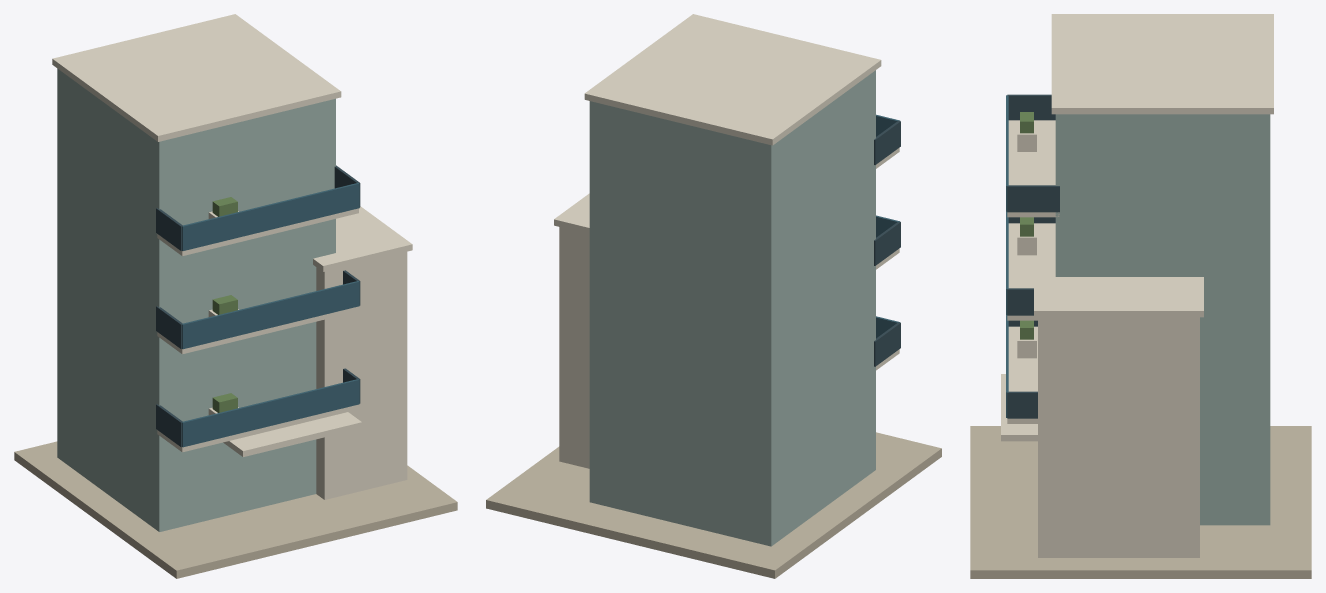
Rendered from mint-apartment_lod.glb.
The picture shows the model from 3 angles, left to right: view 1: azimuth 30°, elevation 25°; view 2: azimuth 150°, elevation 25°; view 3: azimuth 270°, elevation 25°; orthographic projection. The views are drawn at different scales.
Parts seen in each view (by area): view 1: mint_apartment_Building_Volume, mint_apartment_Roof_Coping, mint_apartment_Site_Paving, mint_apartment_Building_Volume.001, mint_apartment_Balcony_Glass, mint_apartment_Balcony_Glass.001, mint_apartment_Balcony_Glass.002, mint_apartment_Roof_Coping.001, mint_apartment_Entrance_Canopy, mint_apartment_Balcony_Slab, mint_apartment_Balcony_Slab.001, mint_apartment_Balcony_Slab.002 (+3 smaller); view 2: mint_apartment_Building_Volume, mint_apartment_Roof_Coping, mint_apartment_Site_Paving, mint_apartment_Building_Volume.001, mint_apartment_Roof_Coping.001, mint_apartment_Balcony_Rail.004, mint_apartment_Balcony_Rail, mint_apartment_Balcony_Rail.002; view 3: mint_apartment_Building_Volume, mint_apartment_Building_Volume.001, mint_apartment_Site_Paving, mint_apartment_Roof_Coping, mint_apartment_Roof_Coping.001, mint_apartment_Balcony_Slab.002, mint_apartment_Balcony_Slab.001, mint_apartment_Balcony_Slab, mint_apartment_Balcony_Rail.005, mint_apartment_Balcony_Rail.004, mint_apartment_Entrance_Canopy, mint_apartment_Balcony_Rail.001 (+4 smaller).
Part boxes in pixels (x1,y1,x2,y2): mint_apartment_Building_Volume: (57,68,335,531); mint_apartment_Roof_Coping: (52,14,341,141); mint_apartment_Site_Paving: (14,441,457,578); mint_apartment_Building_Volume.001: (316,251,407,499); mint_apartment_Balcony_Glass: (182,379,359,447); mint_apartment_Balcony_Glass.001: (182,281,359,349); mint_apartment_Balcony_Glass.002: (182,183,359,250); mint_apartment_Roof_Coping.001: (313,206,412,271); mint_apartment_Entrance_Canopy: (223,412,361,456); mint_apartment_Balcony_Slab: (157,404,358,452); mint_apartment_Balcony_Slab.001: (157,306,358,354); mint_apartment_Balcony_Slab.002: (157,208,358,256); mint_apartment_Building_Volume: (589,70,875,546); mint_apartment_Roof_Coping: (584,14,881,145); mint_apartment_Site_Paving: (486,432,941,578); mint_apartment_Building_Volume.001: (559,227,589,468); mint_apartment_Roof_Coping.001: (554,193,589,234); mint_apartment_Balcony_Rail.004: (874,120,900,164); mint_apartment_Balcony_Rail: (874,322,900,366); mint_apartment_Balcony_Rail.002: (874,221,900,265); mint_apartment_Building_Volume: (1055,114,1270,525); mint_apartment_Building_Volume.001: (1038,317,1199,557); mint_apartment_Site_Paving: (970,426,1311,578); mint_apartment_Roof_Coping: (1051,14,1273,114); mint_apartment_Roof_Coping.001: (1034,265,1203,317); mint_apartment_Balcony_Slab.002: (1007,120,1059,217); mint_apartment_Balcony_Slab.001: (1007,223,1055,320); mint_apartment_Balcony_Slab: (1007,326,1037,423); mint_apartment_Balcony_Rail.005: (1007,185,1059,212); mint_apartment_Balcony_Rail.004: (1007,94,1055,120); mint_apartment_Entrance_Canopy: (1001,374,1037,441); mint_apartment_Balcony_Rail.001: (1007,391,1037,418).
Bounding box in the file's own units: 7.8 × 10.86 × 7.8.
